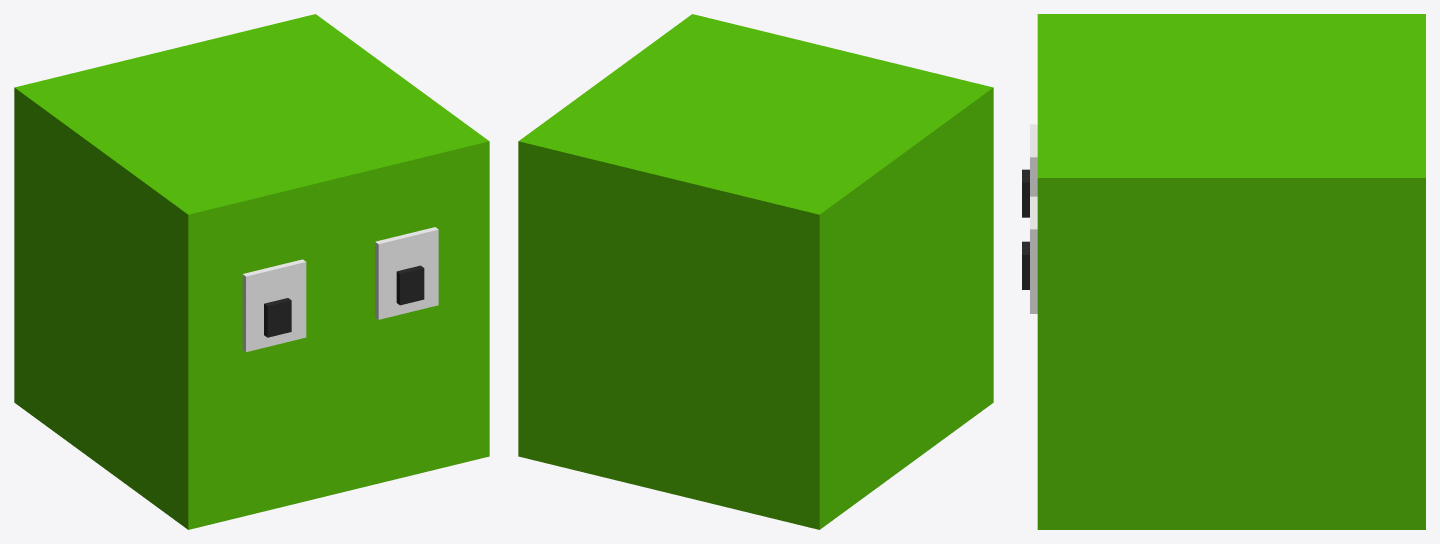
File: lingo-2016.glb
The picture shows the model from 3 angles, left to right: view 1: azimuth 30°, elevation 25°; view 2: azimuth 150°, elevation 25°; view 3: azimuth 270°, elevation 25°; orthographic projection. The views are drawn at different scales.
Parts seen in each view (by area): view 1: Pip; view 2: Pip; view 3: Pip.
Boxes of the visible parts, left/top/right/bottom form: Pip: left=14, top=14, right=489, bottom=529; Pip: left=518, top=14, right=993, bottom=529; Pip: left=1022, top=14, right=1425, bottom=529.
Bounding box in the file's own units: 1 × 1 × 1.04.
